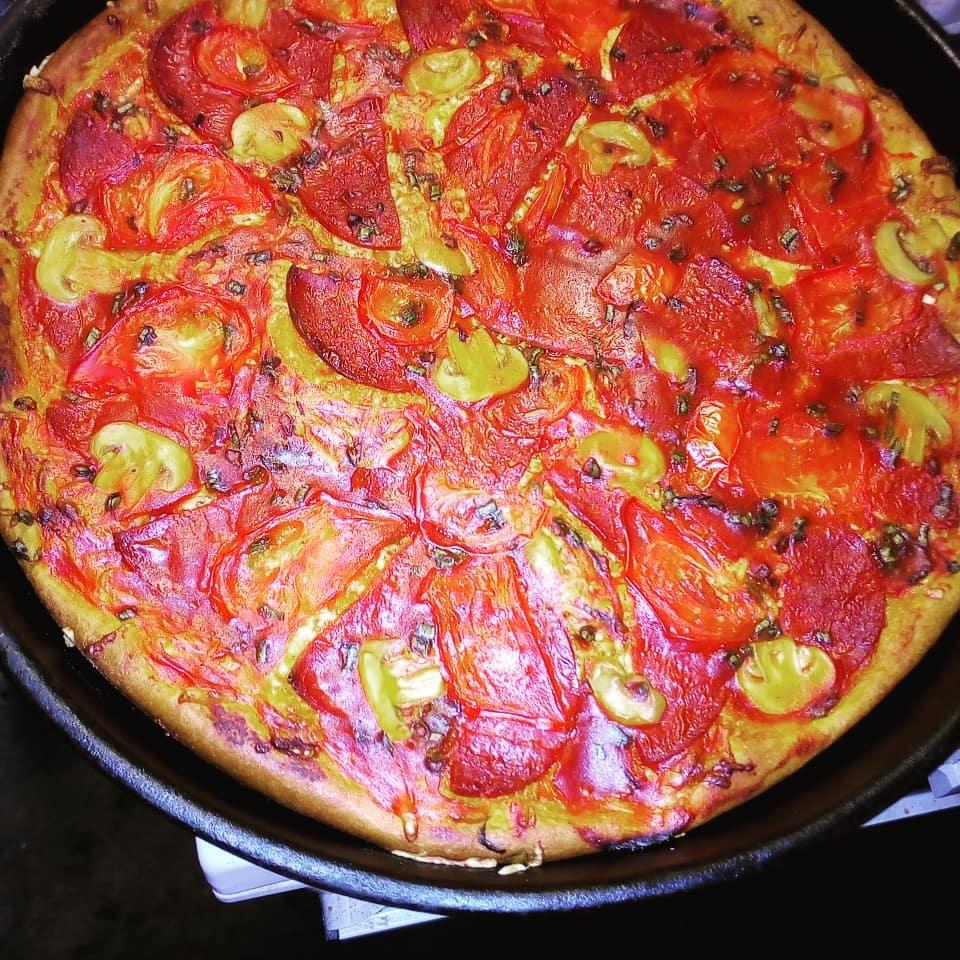Mushroom: (354, 633, 454, 745), (86, 416, 199, 513), (29, 210, 128, 311), (730, 633, 847, 718), (859, 374, 956, 472), (772, 60, 871, 155), (433, 317, 532, 407), (572, 424, 674, 511), (735, 243, 808, 346), (219, 98, 317, 174), (586, 649, 672, 735), (871, 209, 960, 290), (570, 113, 658, 186), (402, 43, 487, 104), (410, 231, 483, 281)
Pepperoni: (460, 153, 653, 370), (729, 506, 890, 709), (58, 95, 272, 244), (444, 592, 583, 806), (449, 45, 598, 238), (146, 0, 336, 143), (276, 262, 463, 404), (622, 578, 738, 775), (310, 537, 425, 730), (286, 264, 435, 394), (650, 252, 782, 380), (600, 4, 750, 109), (300, 92, 397, 254), (394, 0, 498, 54)
Pizza: (4, 0, 960, 867)
Tomatoes: (612, 488, 796, 660), (417, 549, 579, 726), (201, 497, 414, 626), (68, 282, 261, 407), (80, 138, 276, 243), (787, 258, 924, 357), (667, 385, 756, 510), (414, 483, 548, 557), (189, 19, 301, 97), (346, 270, 455, 349), (585, 240, 689, 313)
